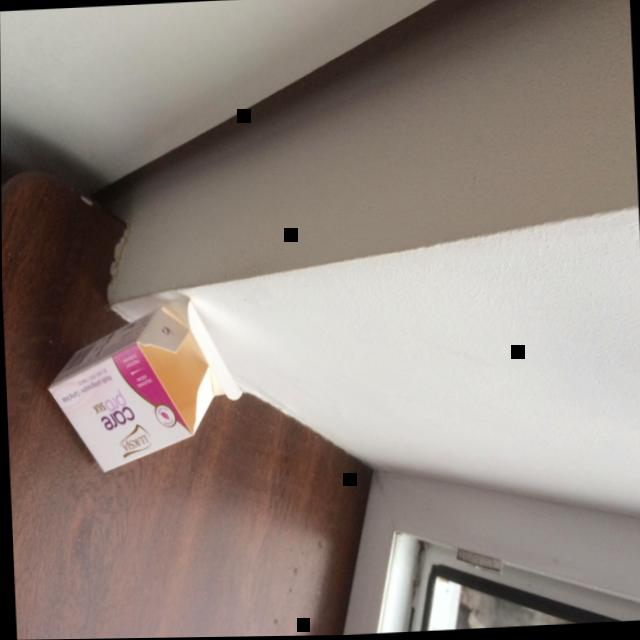Other carton: (46, 300, 241, 472)
